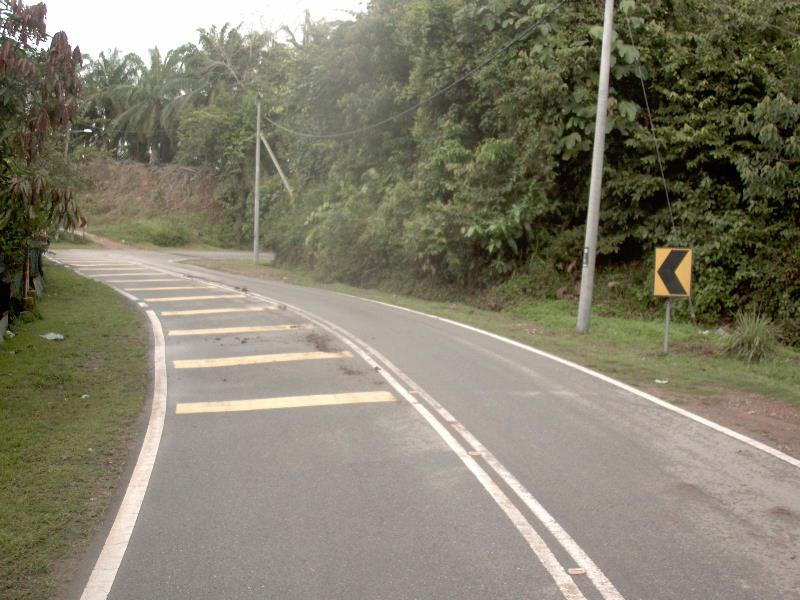traffic_sign: (644, 235, 701, 309)
